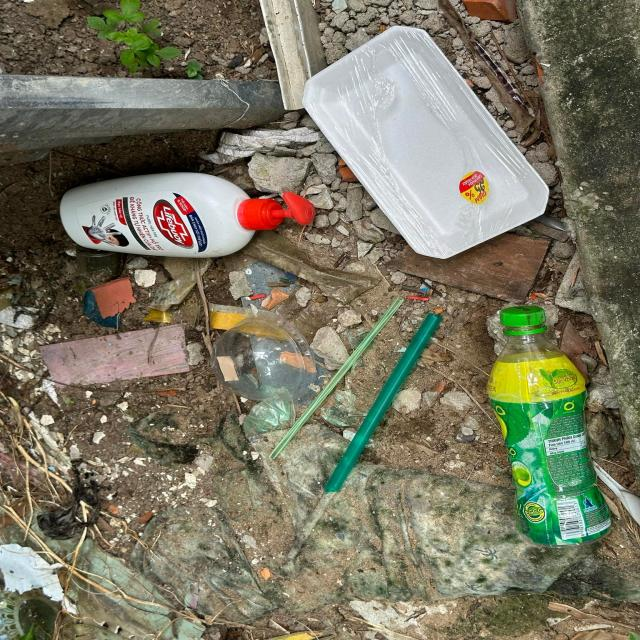bottle: (488, 306, 612, 545), (61, 171, 317, 258)
drinking straw: (268, 297, 404, 460), (325, 312, 444, 494)
foam box: (304, 27, 552, 261)
lid: (221, 313, 315, 402)
